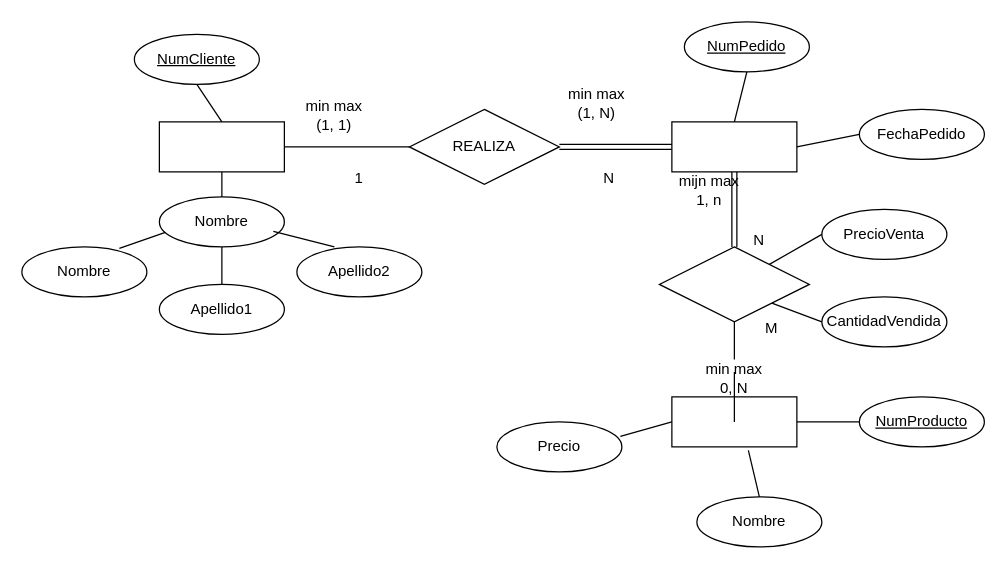
The diagram is 1006 pixels wide and 569 high, and some of its shapes have lost their labels. Each missing label, with the centre of its shape:
"CLIENTE" belongs at (x=221, y=146).
"DETALLEPEDIDO" belongs at (x=733, y=284).
"PEDIDO" belongs at (x=734, y=146).
"PRODUCTO" belongs at (x=734, y=421).
